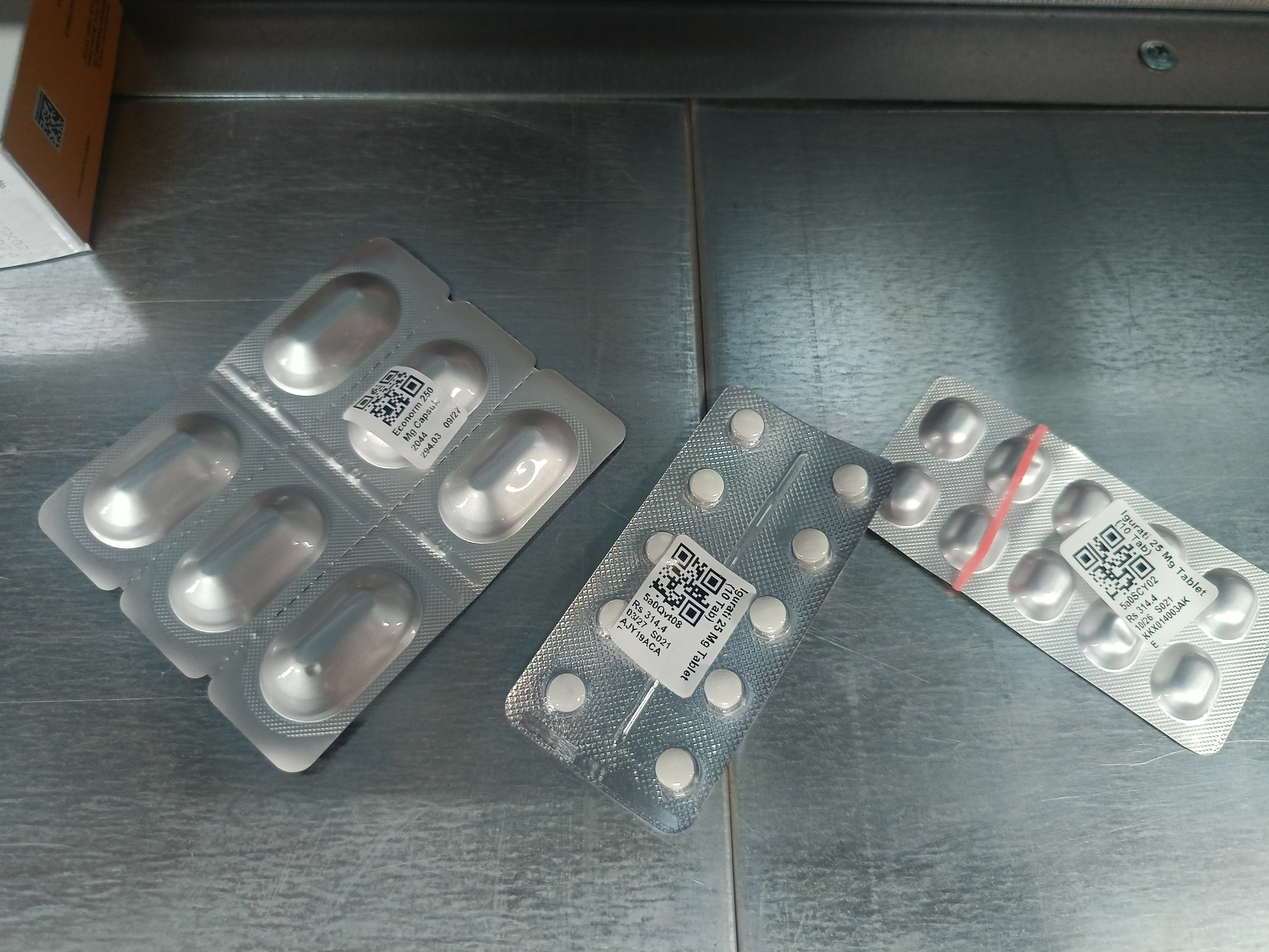qr_code: (646, 542, 727, 627), (1071, 523, 1155, 604)
